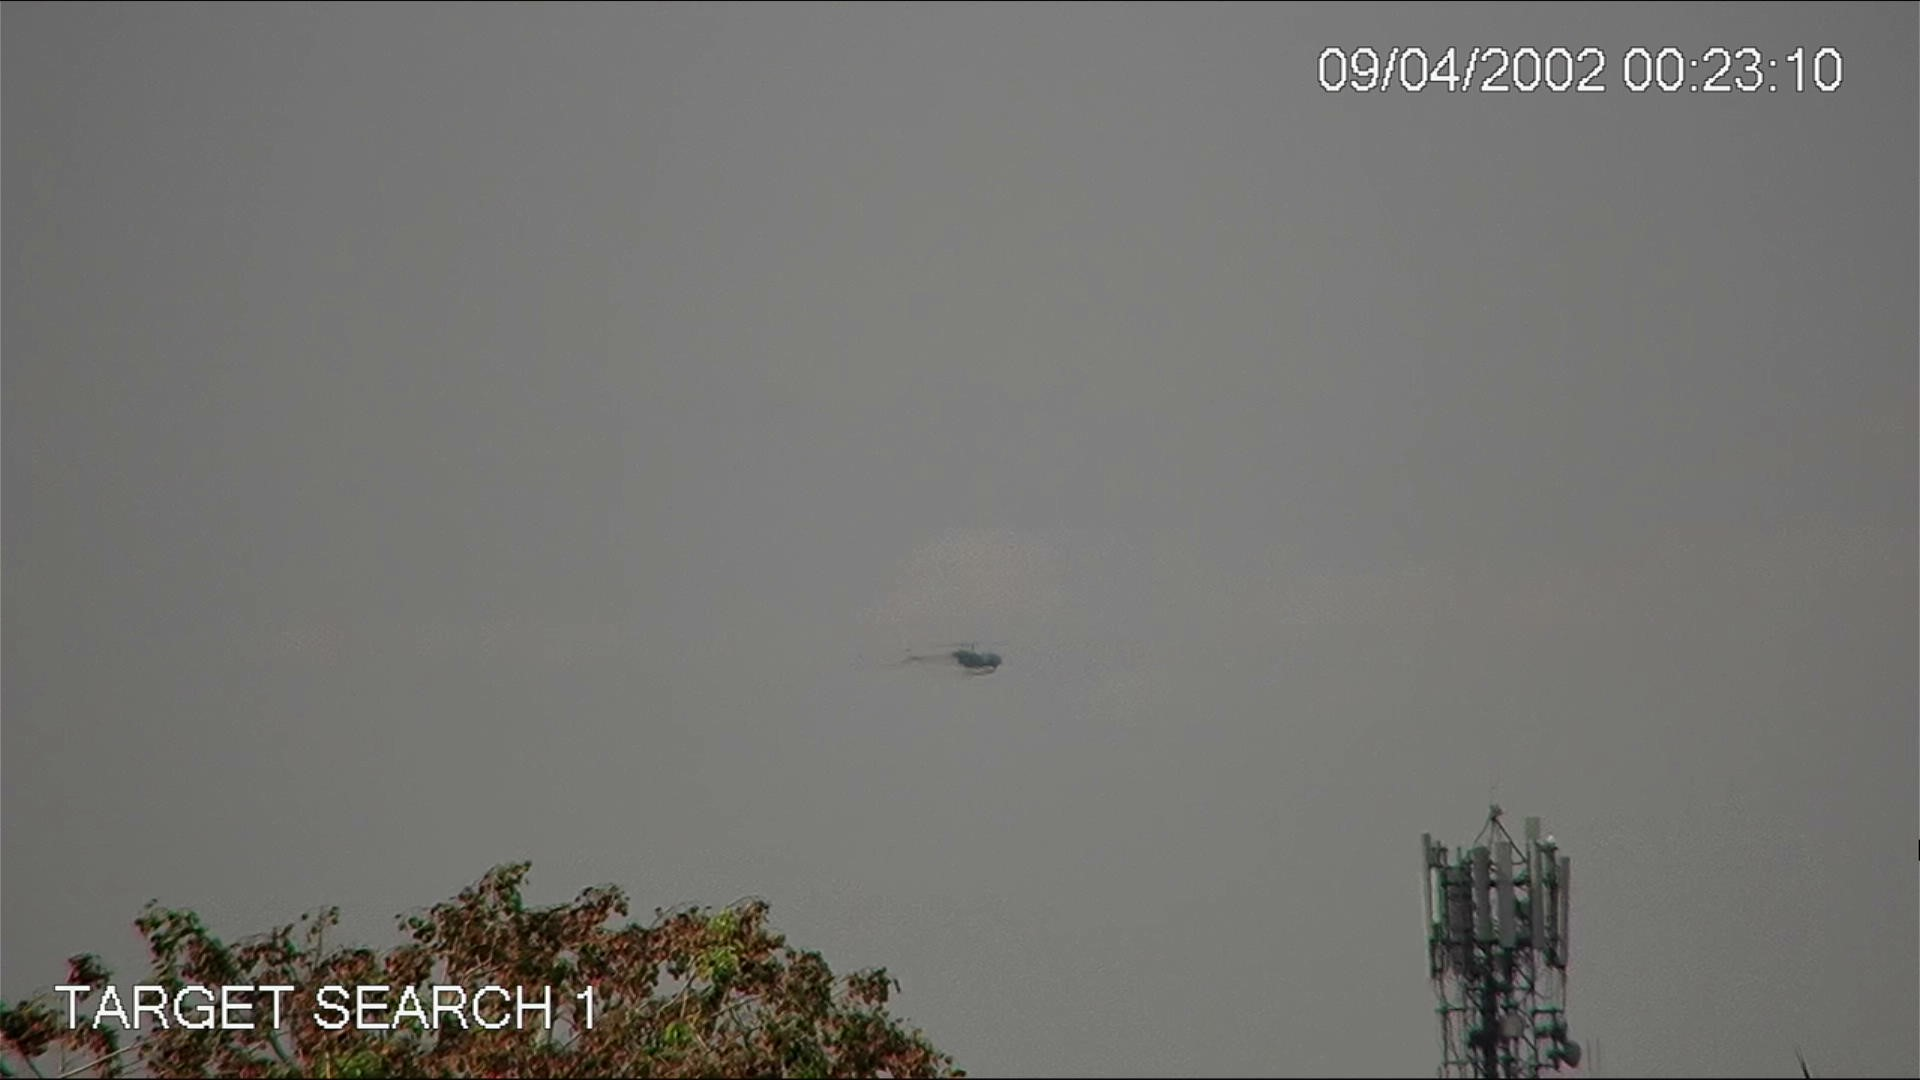SU_30: (887, 630, 1013, 694)
